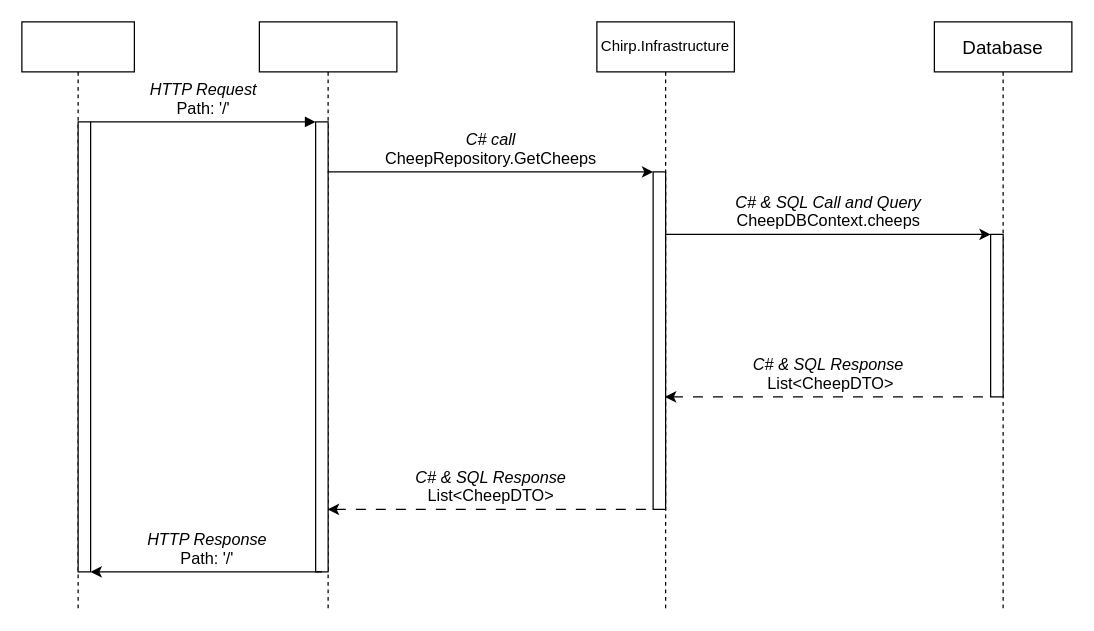
Some shapes in this 1094 by 631 pixel diagram are drawn without their labels. Each missing label, with the centre of its shape:
Chirp.Web: point (327, 315)
User: point (77, 315)
